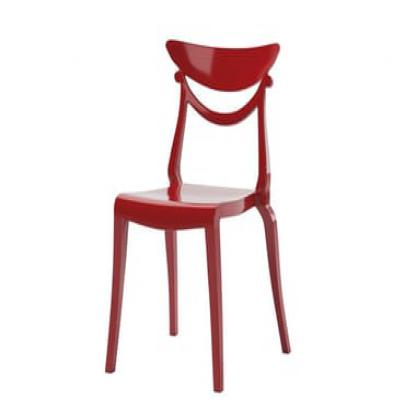chair: (98, 32, 292, 399)
